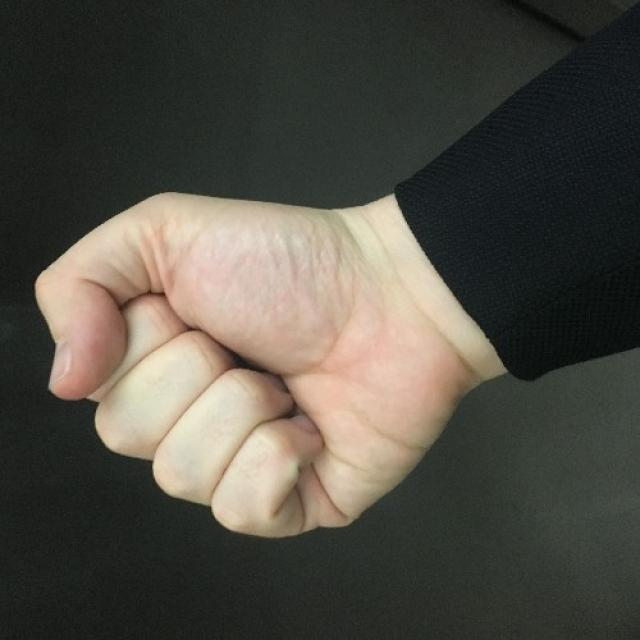fist: (25, 178, 468, 542)
